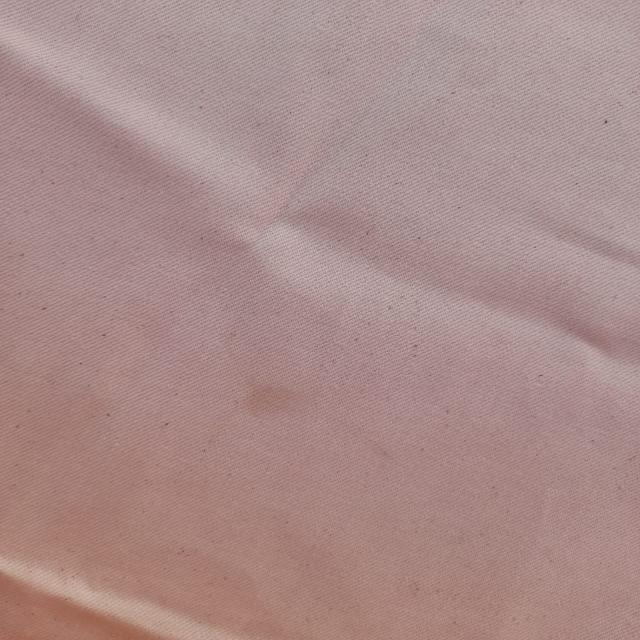taaaches: (228, 372, 314, 420)
